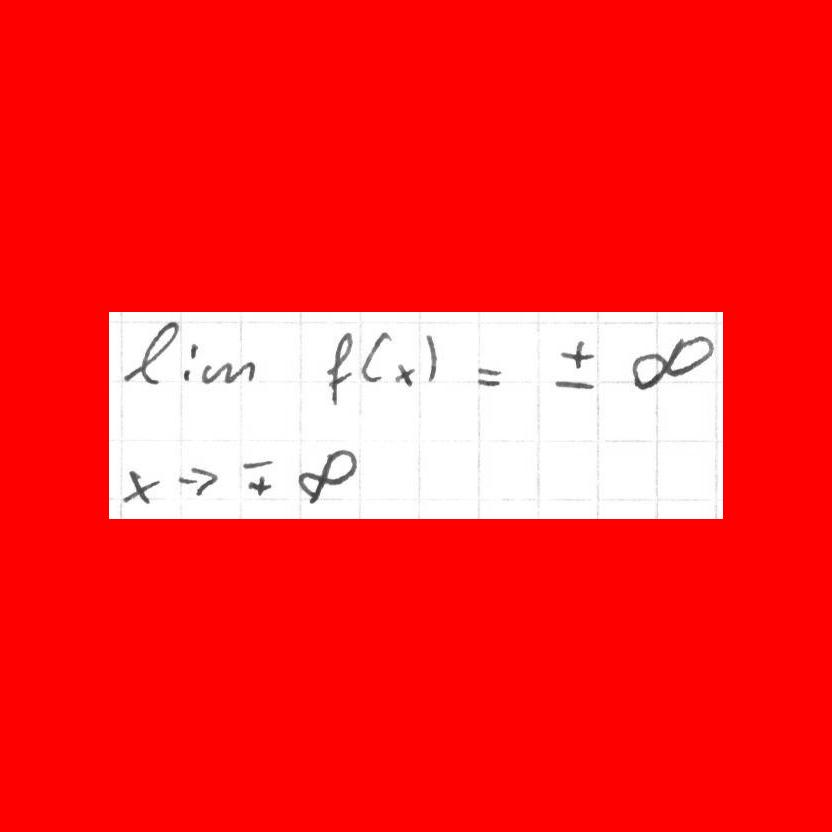Char: (630, 334, 713, 393), (124, 324, 179, 386), (298, 448, 356, 501), (324, 328, 358, 409), (360, 331, 391, 385), (556, 336, 597, 376), (174, 464, 219, 500), (203, 359, 252, 387), (124, 465, 158, 505), (421, 331, 438, 383), (474, 362, 504, 389), (181, 340, 199, 385), (244, 473, 276, 498), (237, 453, 279, 470), (550, 378, 595, 392), (394, 360, 415, 388)
